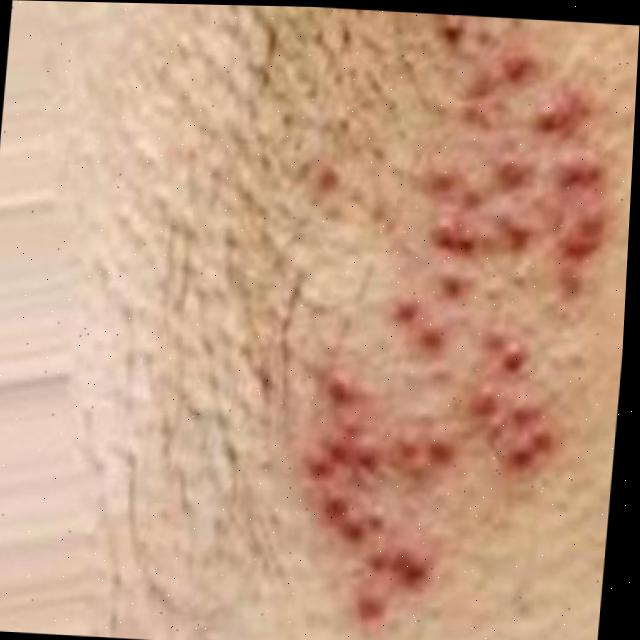Shingles: (286, 8, 636, 618)
